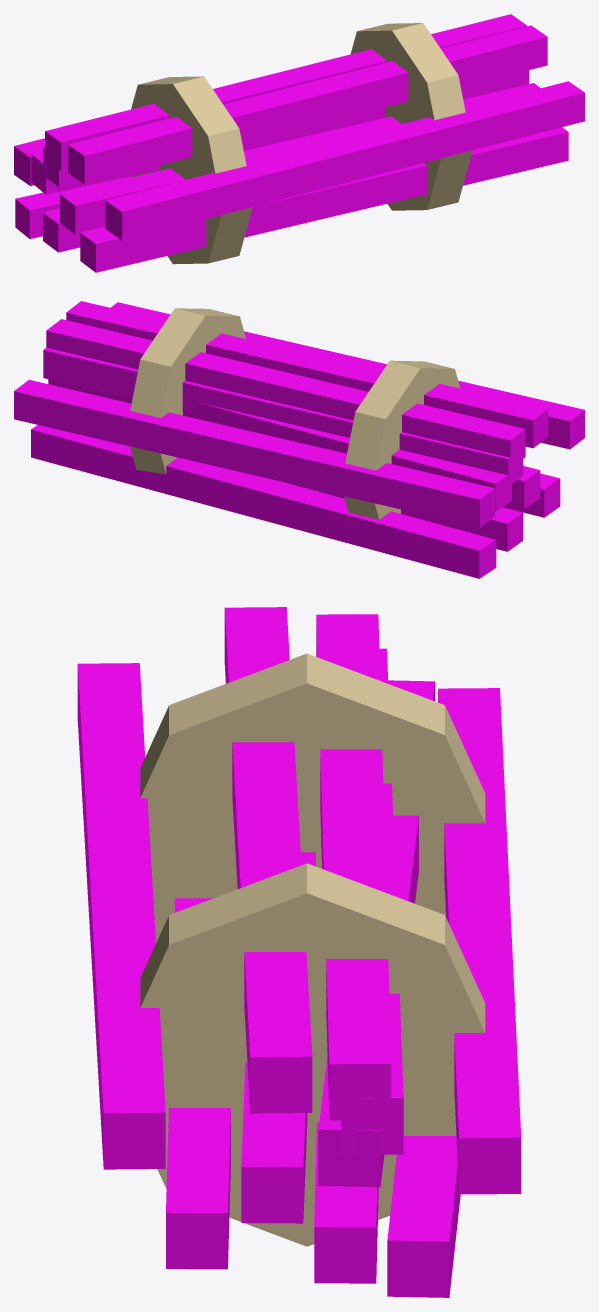
Rendered from objet_fibre.glb.
The picture shows the model from 3 angles, top to bottom: view 1: azimuth 30°, elevation 25°; view 2: azimuth 150°, elevation 25°; view 3: azimuth 270°, elevation 25°; orthographic projection. The views are drawn at different scales.
Parts seen in each view (by area): view 1: fibre_teinte.002, fibre_ficelle.002; view 2: fibre_teinte.002, fibre_ficelle.002; view 3: fibre_teinte.002, fibre_ficelle.002.
Part boxes in pixels (<box>): fibre_teinte.002: <box>14,14,584,272</box>; fibre_ficelle.002: <box>131,23,472,264</box>; fibre_teinte.002: <box>14,301,584,578</box>; fibre_ficelle.002: <box>130,308,459,519</box>; fibre_teinte.002: <box>77,607,521,1297</box>; fibre_ficelle.002: <box>140,653,485,1246</box>.
Size of the model in its own units: 0.3009 by 0.11 by 0.1251.
